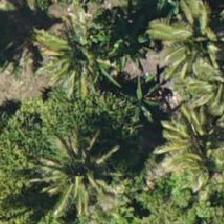Kelapa_Sawit: (30, 121, 120, 211), (45, 6, 135, 96), (146, 99, 223, 190), (151, 0, 223, 84)
